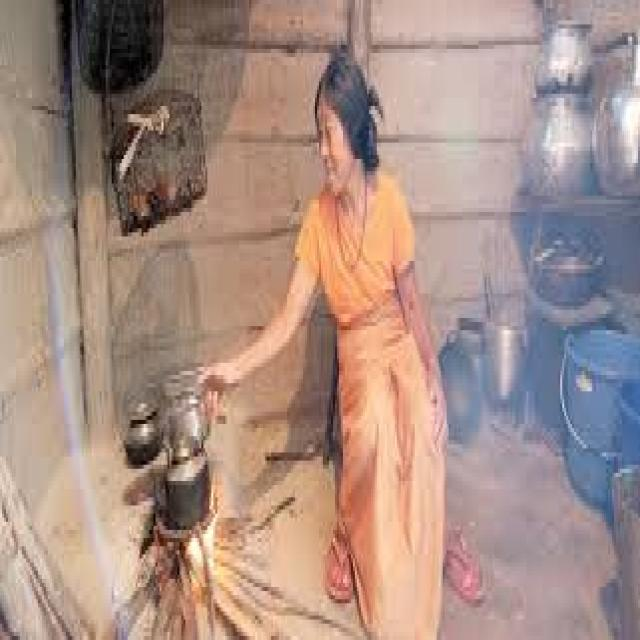fire: (184, 510, 220, 595)
